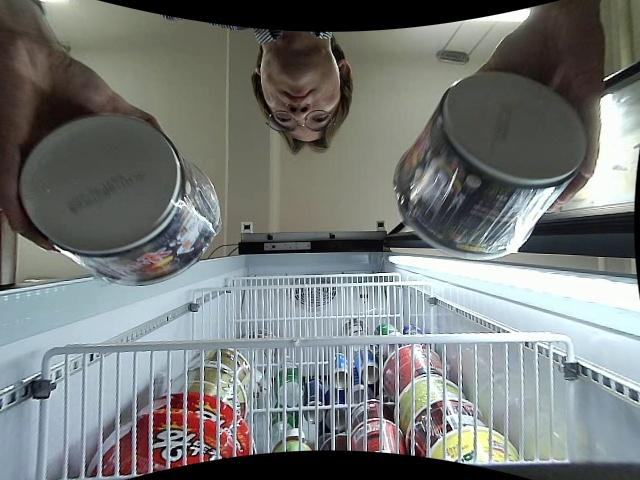00_hand: (0, 29, 164, 259), (479, 16, 608, 212)
07_buldak_L: (393, 72, 584, 258), (19, 115, 220, 285)
